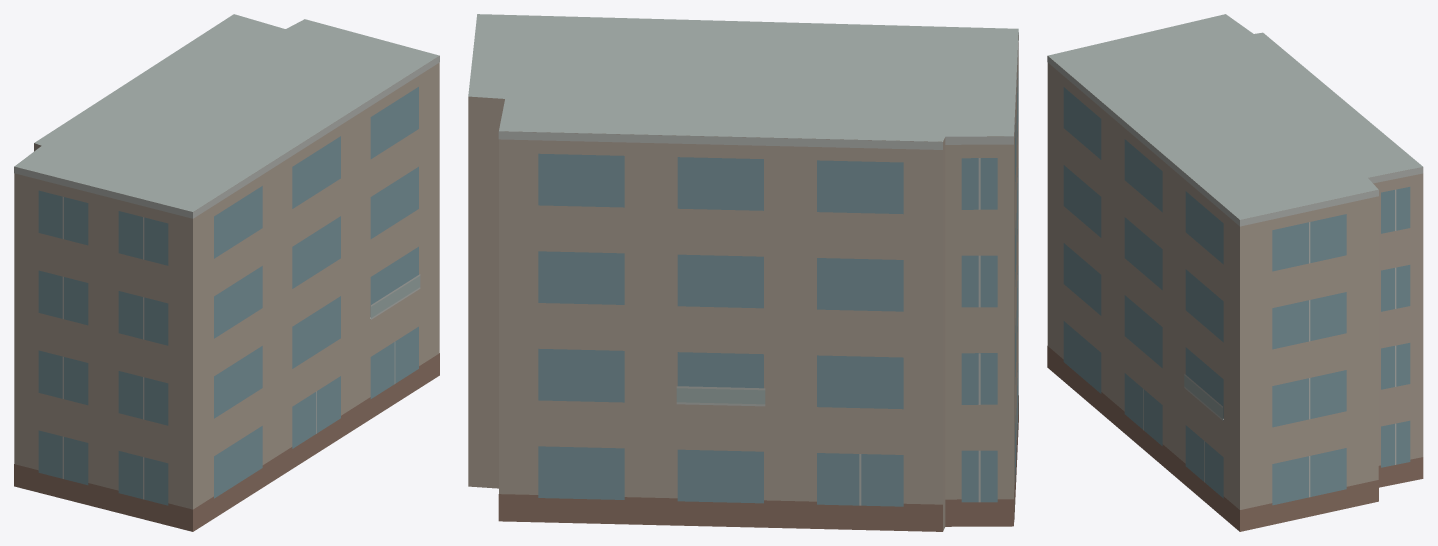
Rendered from survey-upis-32891461.glb.
3 views of the same model, side by side, from view 1: azimuth 30°, elevation 25°; view 2: azimuth 150°, elevation 25°; view 3: azimuth 270°, elevation 25° (orthographic). The views are drawn at different scales.
Visible parts, largest first — view 1: survey-upis-32891461.tmp; view 2: survey-upis-32891461.tmp; view 3: survey-upis-32891461.tmp.
Part boxes in pixels (x1,y1,x2,y2): survey-upis-32891461.tmp: [14, 14, 439, 531]; survey-upis-32891461.tmp: [468, 14, 1018, 531]; survey-upis-32891461.tmp: [1047, 14, 1423, 531].
Bounding box in the file's own units: 16.38 × 11.56 × 12.63.
